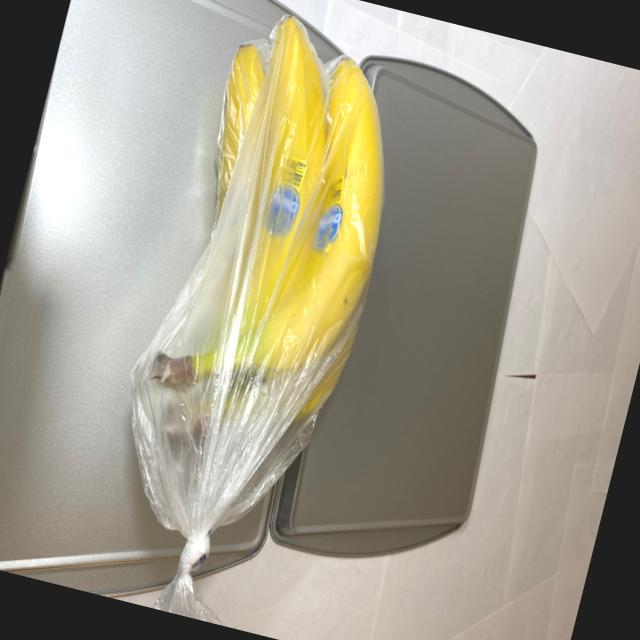banana: (104, 0, 433, 504)
